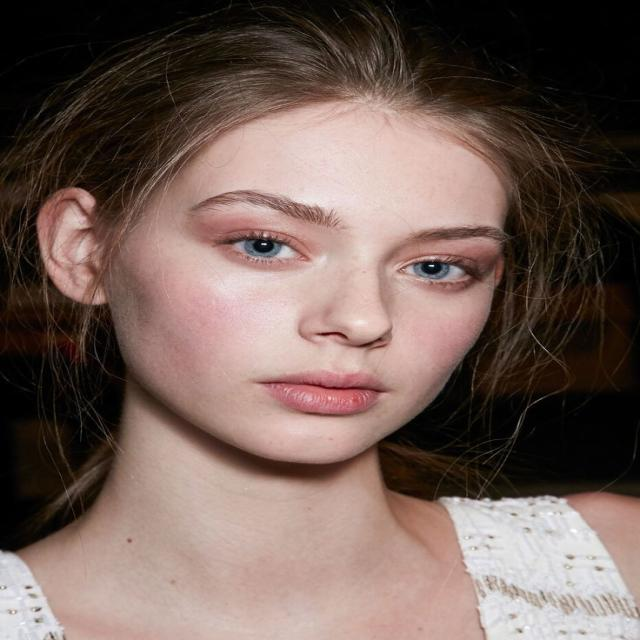earlobe: (64, 269, 106, 306)
eye: (226, 236, 314, 263), (395, 258, 478, 284)
nose: (310, 334, 396, 361)
wholeear: (37, 187, 106, 306)
